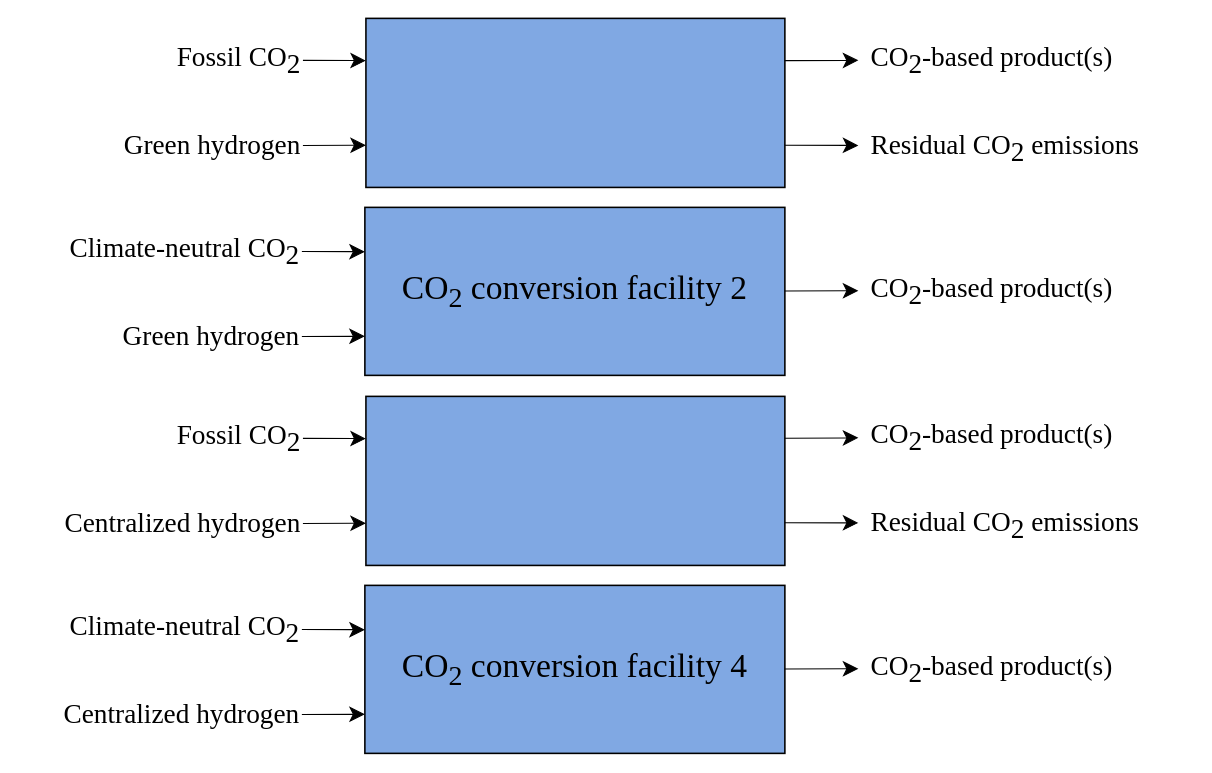
Some shapes in this 1212 by 773 pixel diagram are drawn without their labels. Each missing label, with the centre of its shape:
"CO 2 conversion facility 1" goes at (x=575, y=102).
"CO 2 conversion facility 3" goes at (x=575, y=480).
